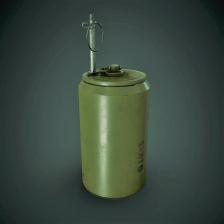OZM-72: (74, 42, 158, 212)
